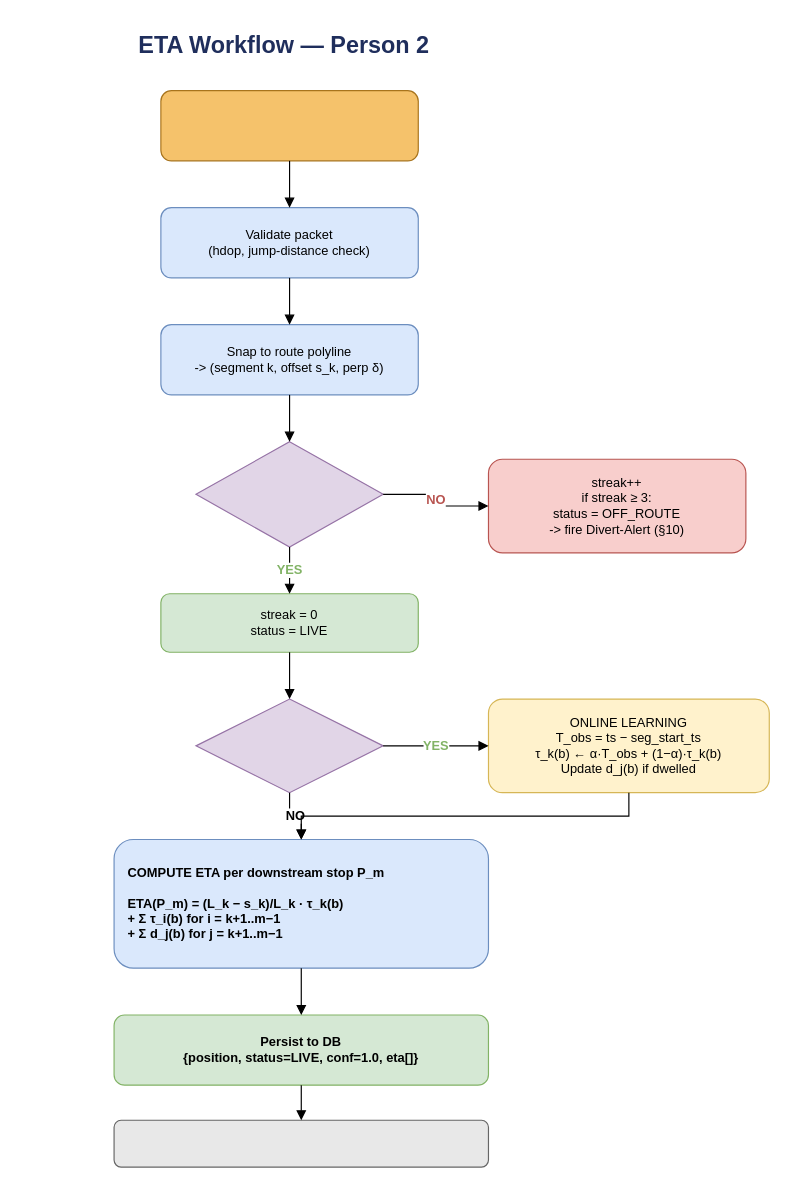
The diagram is 790 pixels wide and 1188 high, and some of its shapes have lost their labels. The shapes that lost their labels are listed below. From the top down, each one's box as (x1, y1, x2, y2) in pixels, then its label:
(160, 90, 418, 161): GPS packet arrives {bus_id, route_id, lat, lon, v, ts}
(195, 441, 383, 547): δ ≤ W ?
(195, 698, 383, 793): Crossed stop P_{k+1} ?
(113, 1119, 488, 1167): Dashboard · Display board · SMS · IVR (Person 3)
